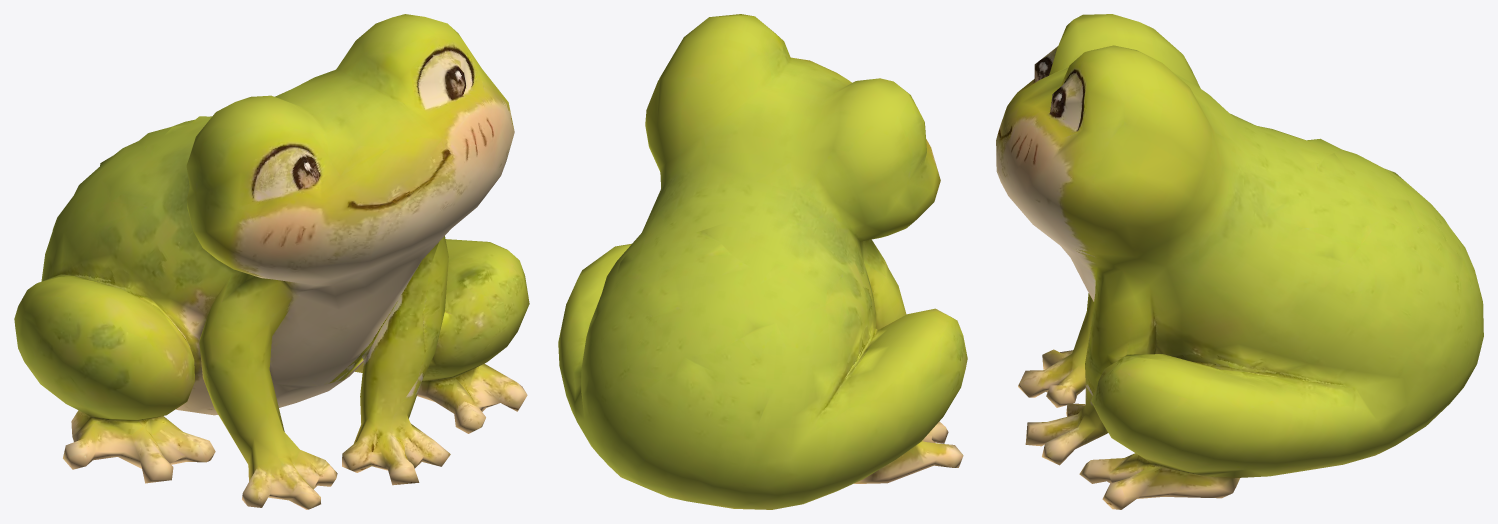
File: turtle-posed-frog.glb
3 renders of one model, left to right at view 1: azimuth 30°, elevation 25°; view 2: azimuth 150°, elevation 25°; view 3: azimuth 270°, elevation 25°, orthographic. The views are drawn at different scales.
Parts seen in each view (by area): view 1: animal-frog_Croak; view 2: animal-frog_Croak; view 3: animal-frog_Croak.
Part boxes in pixels (x1=…): animal-frog_Croak: x1=14, y1=14, x2=529, y2=509; animal-frog_Croak: x1=558, y1=14, x2=967, y2=509; animal-frog_Croak: x1=996, y1=14, x2=1483, y2=509.
Bounding box in the file's own units: 0.2223 × 0.2001 × 0.2123.
Materials: 1 (1 with a texture image).
